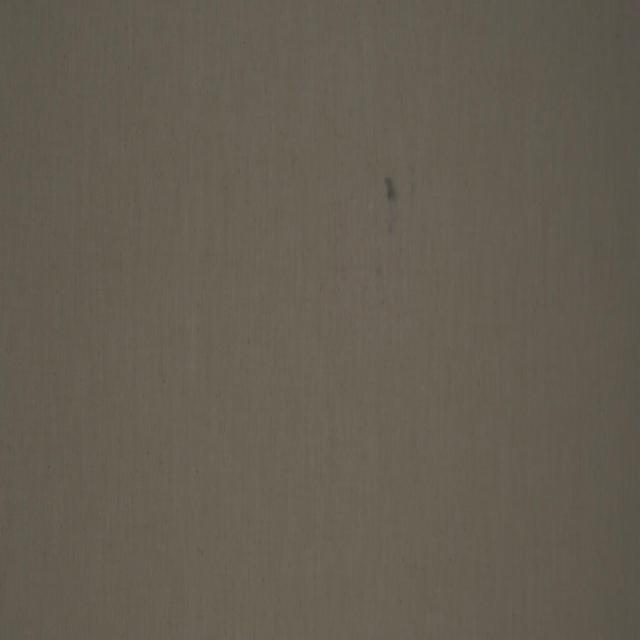dirty: (383, 173, 398, 206)
